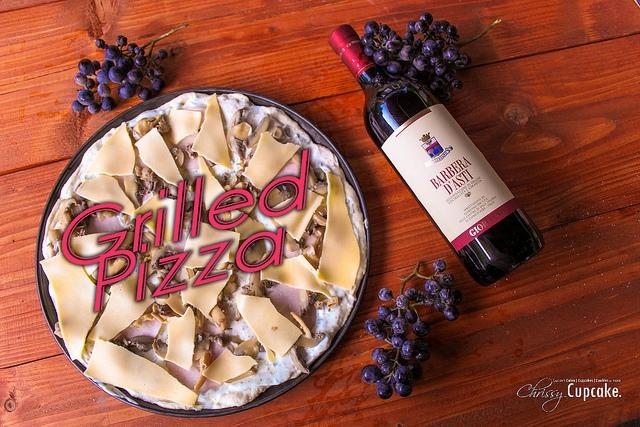grape: (361, 364, 381, 384), (429, 76, 451, 94), (364, 318, 384, 336), (78, 58, 97, 76), (372, 48, 390, 66), (108, 66, 127, 83), (402, 340, 419, 358), (394, 381, 413, 397), (117, 82, 134, 99), (424, 279, 442, 295), (118, 55, 134, 73), (407, 362, 423, 380), (446, 289, 464, 305), (127, 68, 143, 86), (413, 320, 429, 338), (392, 317, 408, 334), (422, 40, 438, 57), (413, 55, 430, 71), (399, 45, 416, 61), (364, 21, 380, 37), (100, 96, 116, 112), (444, 304, 459, 321), (377, 383, 392, 400), (402, 66, 420, 80), (454, 54, 472, 68), (78, 90, 94, 105), (432, 296, 447, 312), (414, 19, 430, 34), (391, 334, 406, 349), (443, 46, 459, 60), (378, 288, 394, 302), (96, 70, 112, 84), (106, 45, 120, 61), (419, 12, 434, 26), (432, 260, 447, 274), (436, 20, 451, 34), (416, 347, 430, 362), (134, 54, 148, 68), (404, 287, 418, 301), (97, 84, 111, 98), (440, 274, 454, 288), (138, 86, 152, 100), (379, 362, 393, 376), (386, 62, 402, 74), (396, 295, 410, 308), (71, 100, 85, 113), (376, 351, 389, 365), (439, 288, 452, 301), (75, 73, 88, 86), (396, 58, 409, 71), (414, 338, 428, 350), (378, 306, 390, 320), (406, 310, 418, 324), (375, 374, 389, 386), (446, 25, 458, 38), (88, 103, 101, 115), (375, 329, 388, 341), (102, 60, 115, 72), (152, 78, 164, 91), (430, 55, 443, 67), (361, 34, 374, 46), (422, 294, 434, 306), (435, 64, 447, 76), (378, 24, 391, 35), (387, 50, 398, 62), (384, 41, 396, 52), (424, 30, 436, 41), (92, 60, 102, 72), (424, 66, 436, 76), (154, 64, 164, 76), (386, 310, 396, 322), (157, 49, 168, 59), (444, 72, 454, 83), (413, 37, 422, 49), (128, 43, 138, 53), (435, 40, 445, 50), (146, 68, 154, 80), (116, 34, 125, 44), (404, 33, 414, 41), (389, 36, 402, 42), (452, 34, 460, 41), (104, 44, 108, 48)
mushroom: (56, 198, 89, 233), (132, 115, 170, 140), (247, 114, 270, 148), (240, 237, 264, 268), (233, 338, 260, 360), (246, 270, 267, 298), (192, 331, 210, 361), (134, 170, 148, 206), (294, 332, 325, 348), (124, 336, 154, 352), (210, 304, 227, 331), (309, 214, 327, 236), (152, 338, 168, 358), (184, 142, 197, 160), (312, 168, 326, 182), (313, 212, 326, 226), (140, 167, 151, 182), (295, 237, 307, 250), (148, 181, 152, 191)
